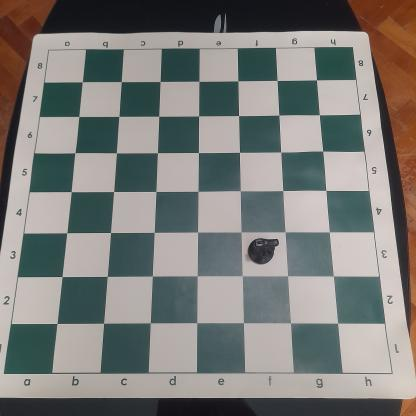black-knight: (247, 237, 280, 266)
